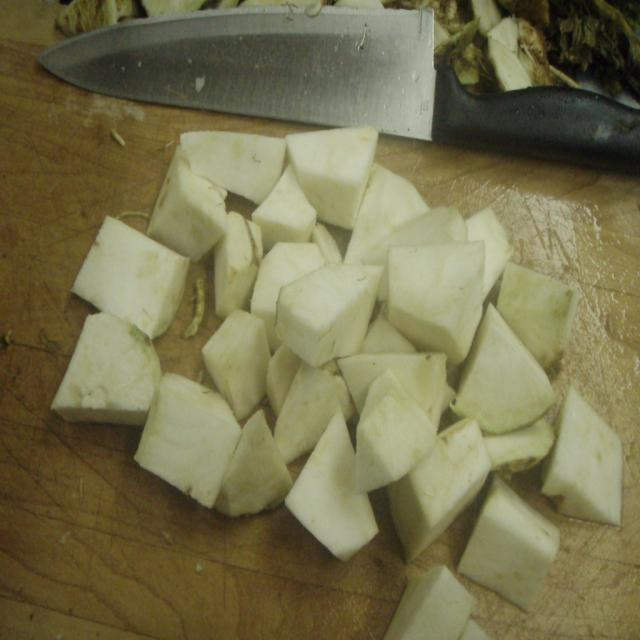Knife: (29, 12, 640, 169)
